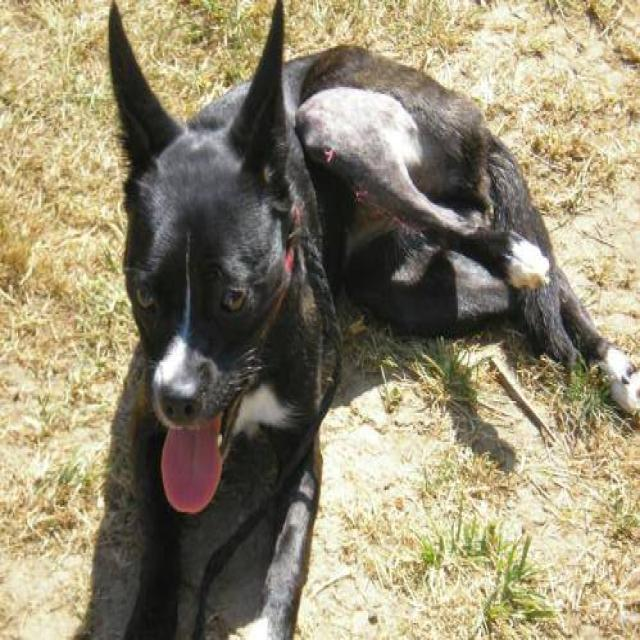Dog: (87, 0, 308, 534)
